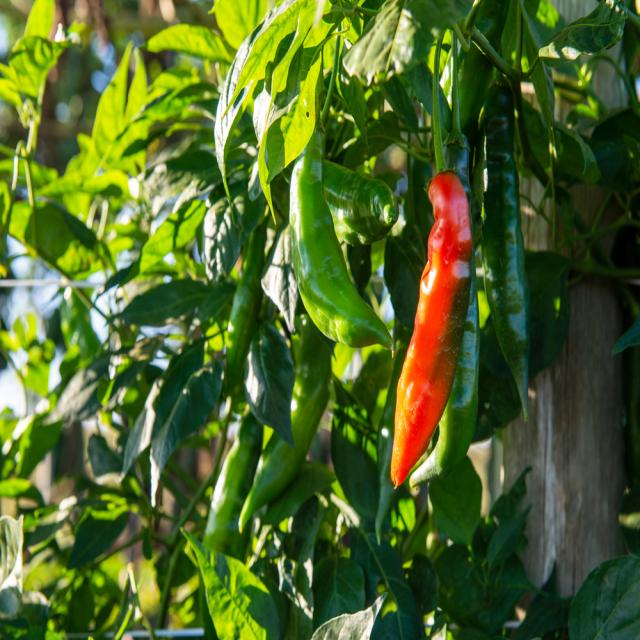Ripe: (391, 171, 472, 487)
Unripe: (290, 129, 392, 348), (239, 315, 331, 528), (481, 84, 530, 419), (410, 270, 480, 486), (204, 412, 262, 559), (225, 225, 266, 393), (322, 161, 399, 245)
